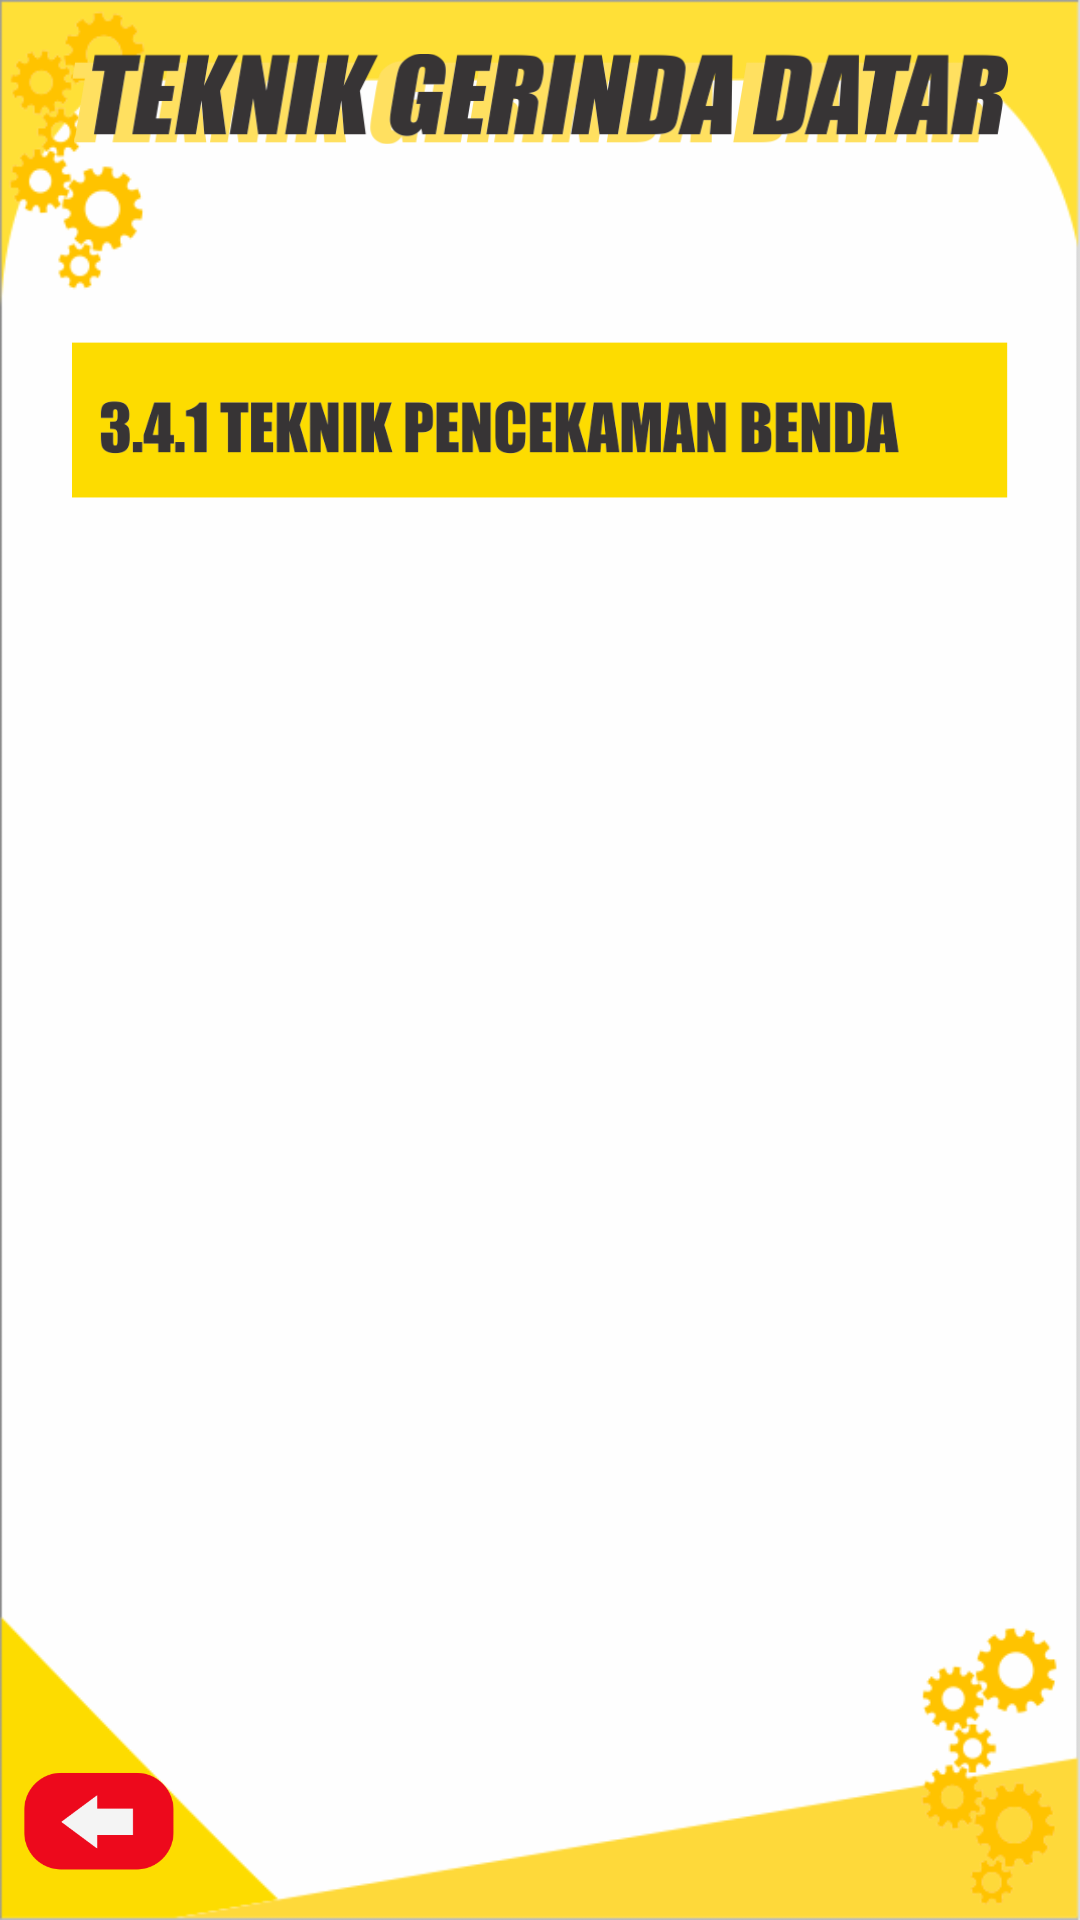

Named icons in this screenshot (1080×1920) and their bounding boxes, (x1, y1, x2, y2):
back: (24, 1746, 174, 1870)
